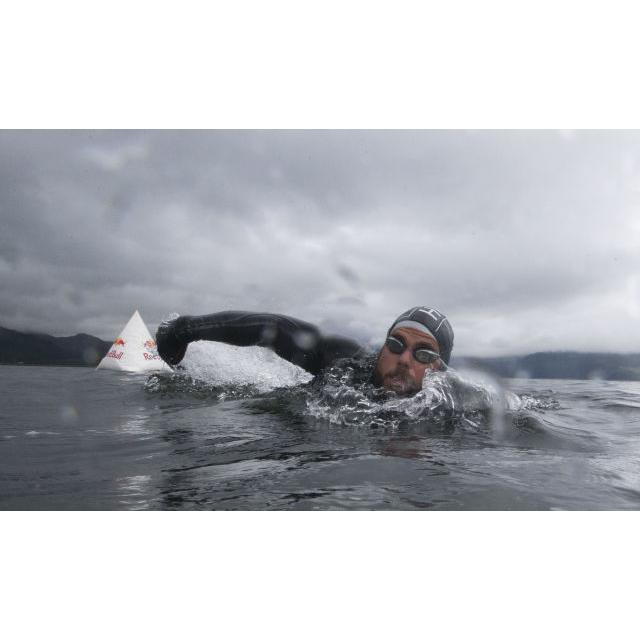human: (157, 306, 455, 416)
